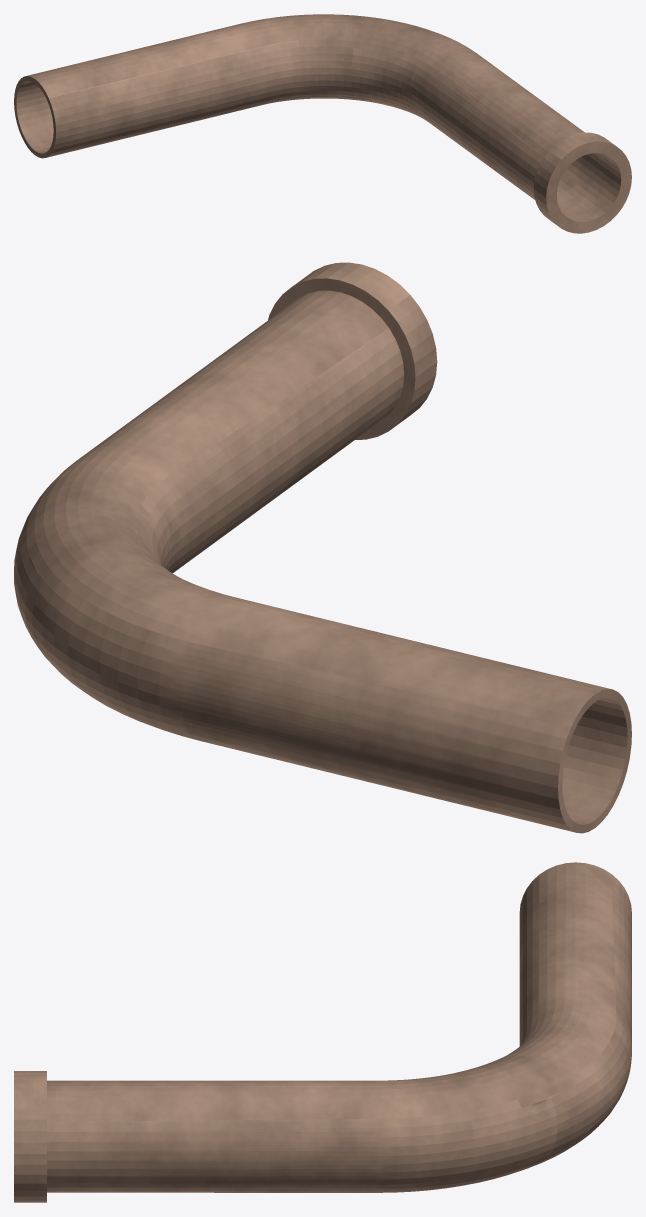
File: Pipe curve 2 no end.glb
The picture shows the model from 3 angles, top to bottom: view 1: azimuth 30°, elevation 25°; view 2: azimuth 150°, elevation 25°; view 3: azimuth 270°, elevation 25°; orthographic projection. The views are drawn at different scales.
Visible parts, largest first — view 1: Pipe thin turn NE; view 2: Pipe thin turn NE; view 3: Pipe thin turn NE.
Part boxes in pixels (x1,y1,x2,y2): Pipe thin turn NE: (14,14,631,233); Pipe thin turn NE: (14,262,631,833); Pipe thin turn NE: (14,862,631,1202).
Size of the model in its own units: 12.8 by 2.85 by 13.3.
1 material, 1 textured.
